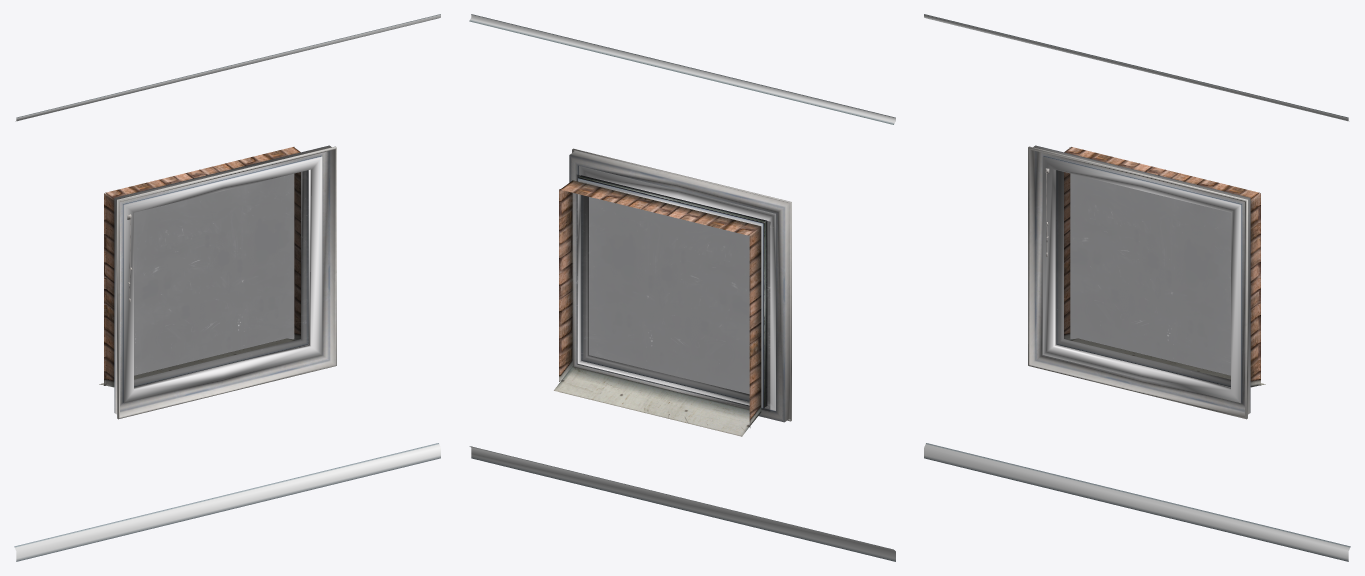
Rendered from waitingroom_flat_window_noblinds_edge.dae.
The picture shows the model from 3 angles, left to right: view 1: azimuth 30°, elevation 25°; view 2: azimuth 150°, elevation 25°; view 3: azimuth 330°, elevation 25°; orthographic projection.
Parts seen in each view (by area): view 1: polySurface71, pPlane12; view 2: polySurface71, pPlane12; view 3: polySurface71, pPlane12.
Part boxes in pixels (x1,y1,x2,y2): polySurface71: [14, 14, 440, 561]; pPlane12: [134, 170, 308, 386]; polySurface71: [469, 14, 895, 561]; pPlane12: [576, 174, 770, 411]; polySurface71: [924, 14, 1350, 561]; pPlane12: [1056, 170, 1230, 386].
Size of the model in its own units: 4 by 4 by 0.5829.
